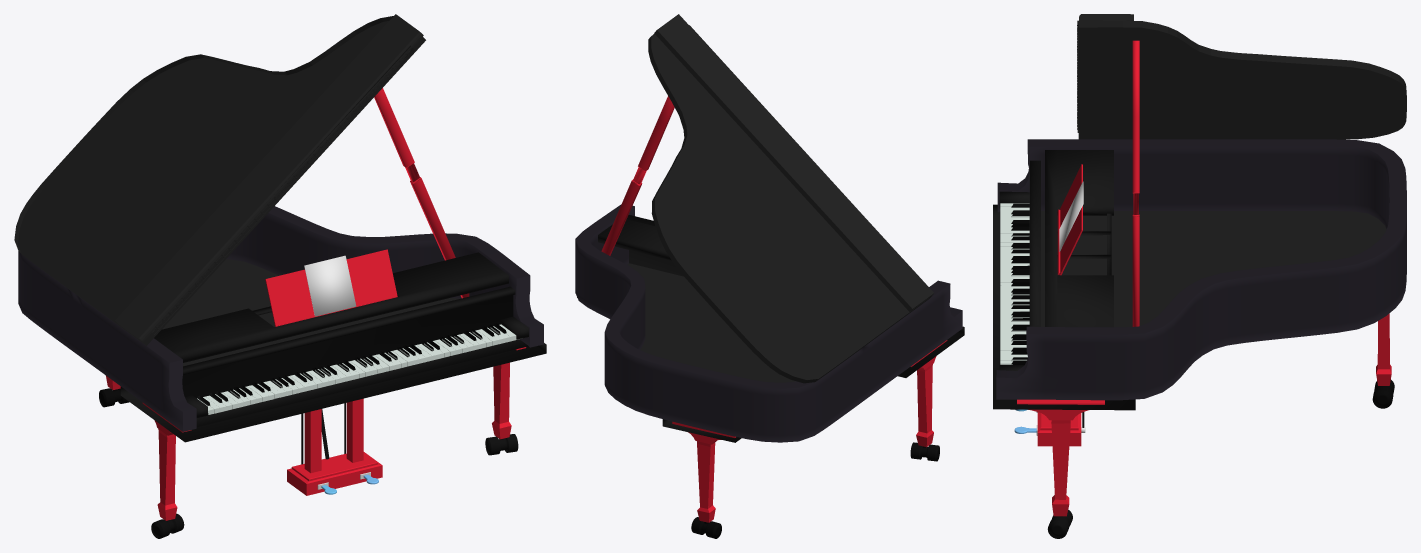
Rendered from piyano.glb.
The picture shows the model from 3 angles, left to right: view 1: azimuth 30°, elevation 25°; view 2: azimuth 150°, elevation 25°; view 3: azimuth 270°, elevation 25°; orthographic projection. The views are drawn at different scales.
Visible parts, largest first — view 1: Cylinder.008, Plane, Cube, Cube.001, Cube.006, Plane.002, Plane.003, Cube.009, Cube.003, Cube.004; view 2: Cylinder.008, Cube, Cube.001, Plane, Cube.009, Cube.005, Cube.003; view 3: Cube, Cylinder.008, Cube.001, Plane, Cube.004, Cube.009, Plane.002, Cube.005, Cube.006, Plane.003.
Boxes of the visible parts, bbox=[...] form: Cylinder.008: bbox=[14, 14, 425, 345]; Plane: bbox=[120, 252, 546, 442]; Cube: bbox=[18, 206, 543, 431]; Cube.001: bbox=[162, 259, 458, 366]; Cube.006: bbox=[287, 398, 382, 495]; Plane.002: bbox=[265, 249, 397, 326]; Plane.003: bbox=[304, 255, 356, 316]; Cube.009: bbox=[374, 88, 469, 298]; Cube.003: bbox=[142, 402, 191, 520]; Cube.004: bbox=[492, 347, 526, 439]; Cylinder.008: bbox=[648, 14, 934, 383]; Cube: bbox=[575, 204, 962, 442]; Cube.001: bbox=[627, 263, 795, 382]; Plane: bbox=[577, 215, 964, 442]; Cube.009: bbox=[601, 96, 674, 255]; Cube.005: bbox=[672, 421, 735, 522]; Cube.003: bbox=[910, 340, 947, 447]; Cube: bbox=[996, 139, 1406, 400]; Cylinder.008: bbox=[1077, 14, 1406, 139]; Cube.001: bbox=[1041, 211, 1386, 327]; Plane: bbox=[993, 150, 1135, 410]; Cube.004: bbox=[1017, 399, 1104, 516]; Cube.009: bbox=[1132, 40, 1139, 326]; Plane.002: bbox=[1057, 164, 1082, 275]; Cube.005: bbox=[1376, 313, 1391, 385]; Cube.006: bbox=[1037, 412, 1081, 446]; Plane.003: bbox=[1059, 181, 1083, 251].
Size of the model in its own units: 17.47 by 19.61 by 15.36.
